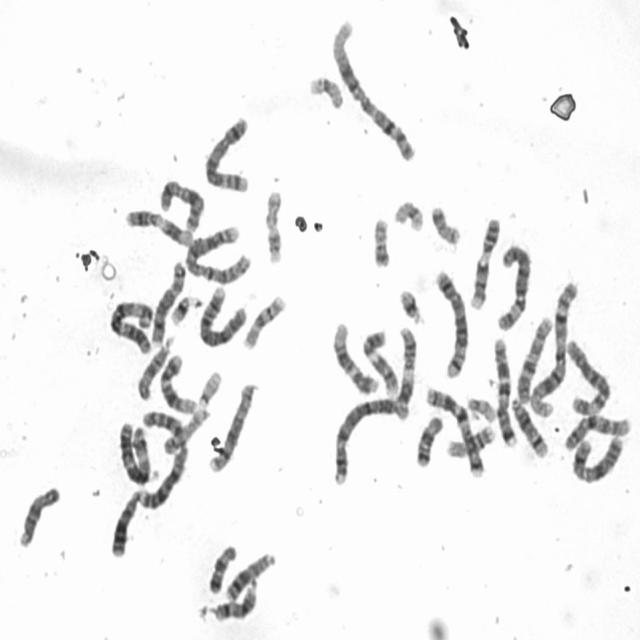A1: (327, 11, 418, 165), (526, 275, 580, 419)
A2: (132, 403, 190, 512), (181, 217, 253, 286)
A3: (105, 293, 156, 356), (115, 415, 158, 486)
B4: (328, 391, 402, 487), (195, 280, 249, 349)
B5: (431, 263, 472, 380), (200, 110, 252, 194)
C10: (512, 309, 554, 405), (559, 408, 634, 452)
C11: (121, 202, 195, 248), (391, 320, 418, 421)
C12: (327, 315, 380, 396), (155, 347, 198, 415)
C6: (562, 333, 613, 416), (492, 237, 534, 332)
C7: (421, 381, 487, 478), (490, 331, 519, 448)
C8: (204, 377, 258, 475), (146, 255, 188, 348)
C9: (465, 210, 503, 310), (358, 323, 400, 398)
D13: (220, 546, 278, 603), (106, 482, 144, 559)
D14: (507, 391, 550, 459), (209, 575, 259, 624)
D15: (13, 480, 62, 550), (133, 332, 176, 402)
E16: (238, 288, 288, 351), (442, 418, 497, 460)
E17: (163, 404, 214, 460), (261, 182, 285, 266)
E18: (204, 539, 238, 596), (412, 409, 444, 468)
F19: (304, 68, 346, 110), (390, 193, 426, 233)
F20: (426, 198, 463, 246), (368, 211, 392, 269)
G21: (395, 282, 426, 326), (166, 289, 201, 327)
G22: (194, 365, 223, 410), (463, 390, 498, 423)
X: (568, 429, 626, 486), (155, 172, 206, 233)
